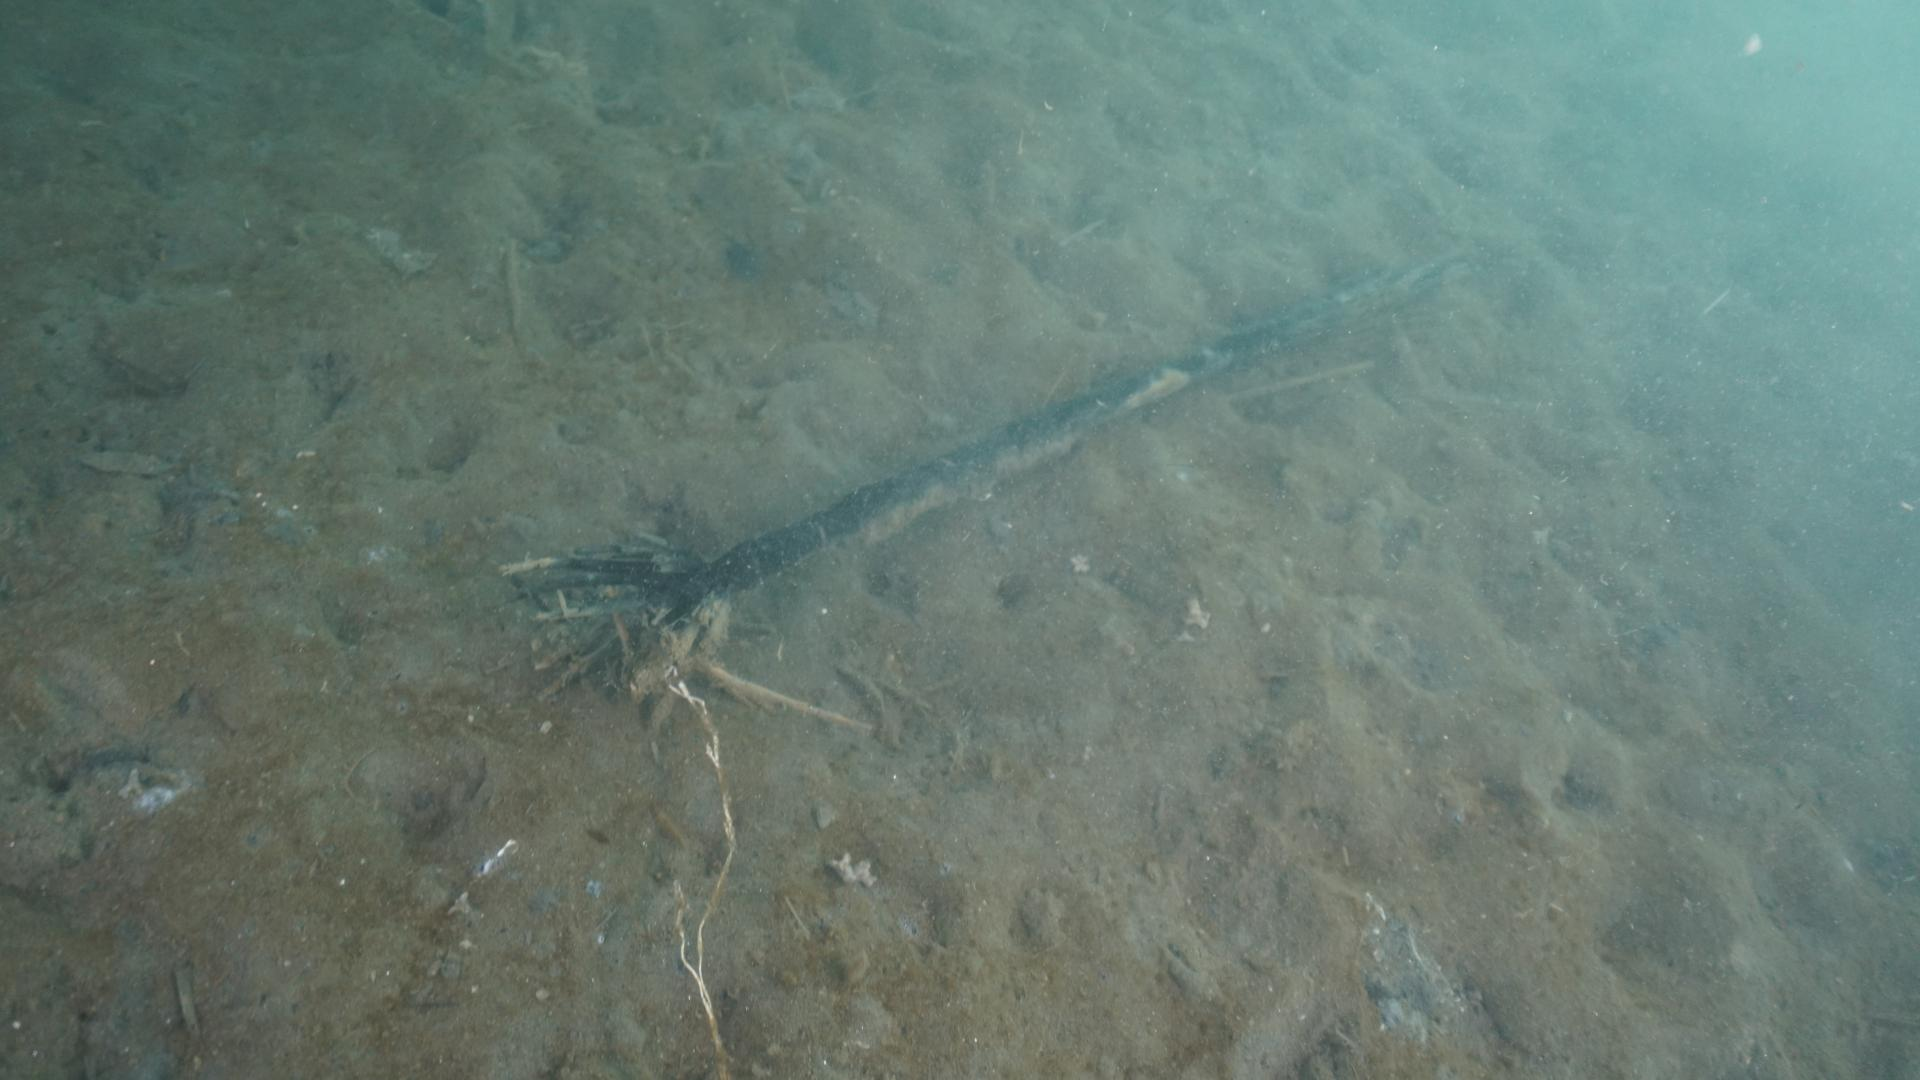wood: (497, 247, 1465, 737)
